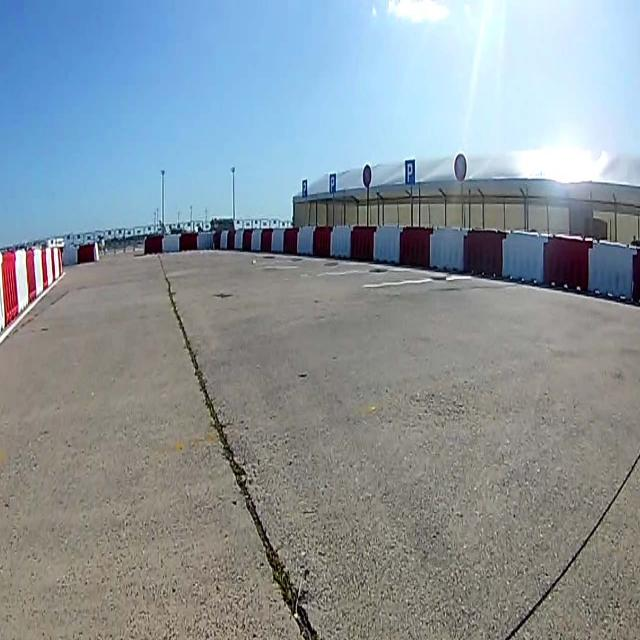park: (404, 159, 414, 185), (329, 173, 336, 194), (302, 180, 308, 198)
parkyasak: (454, 154, 466, 184), (362, 164, 372, 188)
